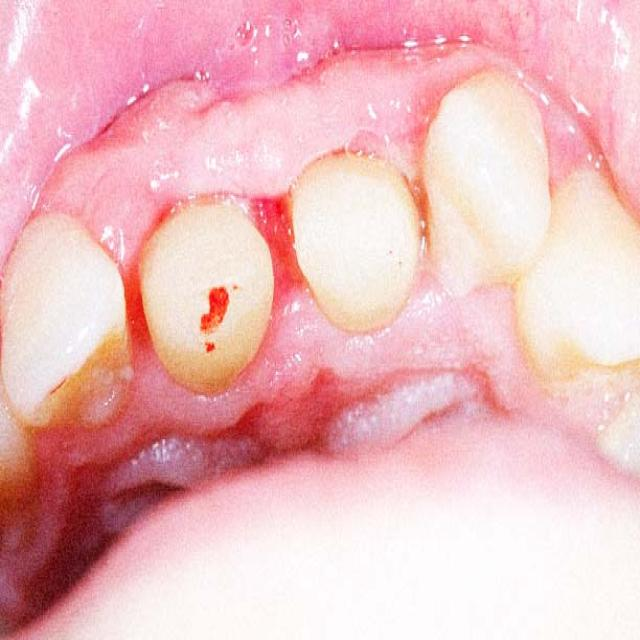caries: (190, 282, 241, 351)
